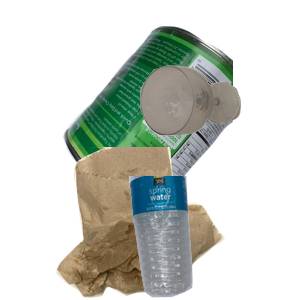glass: (138, 63, 300, 191)
metal: (60, 23, 300, 203)
plastic: (127, 176, 300, 300)
trash: (54, 147, 271, 300)
